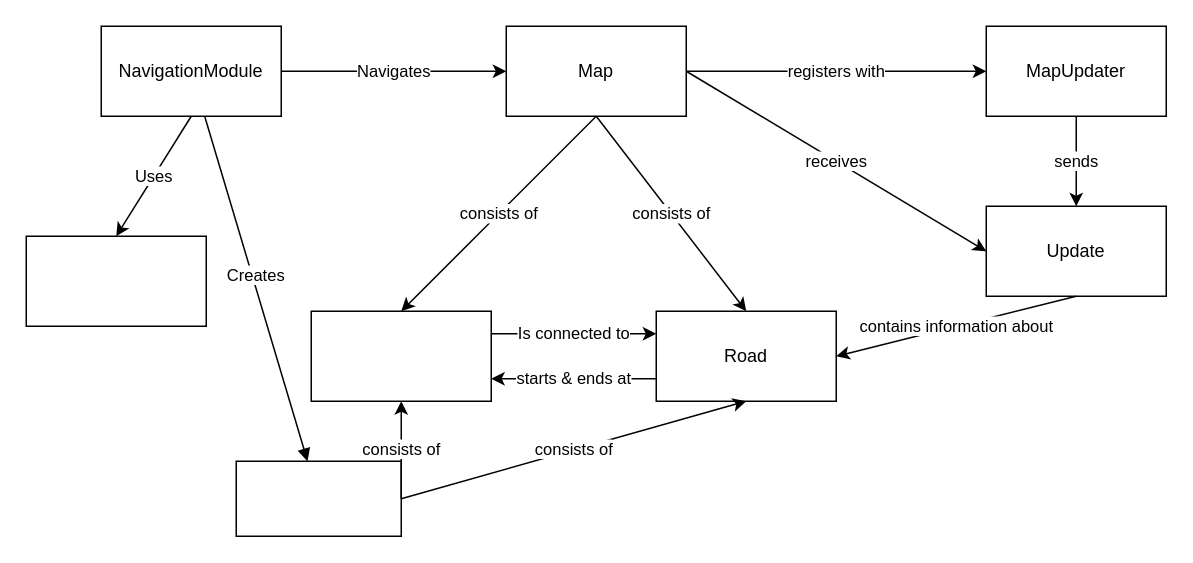
Image size: 1193x563. Some labels were removed from this diagram. Here are the shapes that lost their labels. From the top down, the centre of each, then its label:
At pixel 115 280: "Navigation policy".
At pixel 400 355: "Crossing".
At pixel 318 498: "Path".
